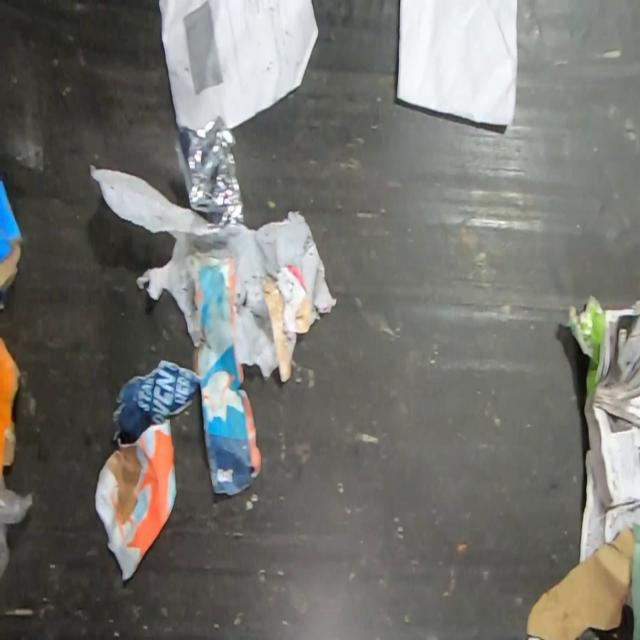cardboard: (526, 523, 636, 640), (0, 176, 24, 310), (0, 331, 21, 478)
metal: (173, 115, 246, 227)
soft_plastic: (89, 161, 337, 380), (0, 474, 33, 583)
